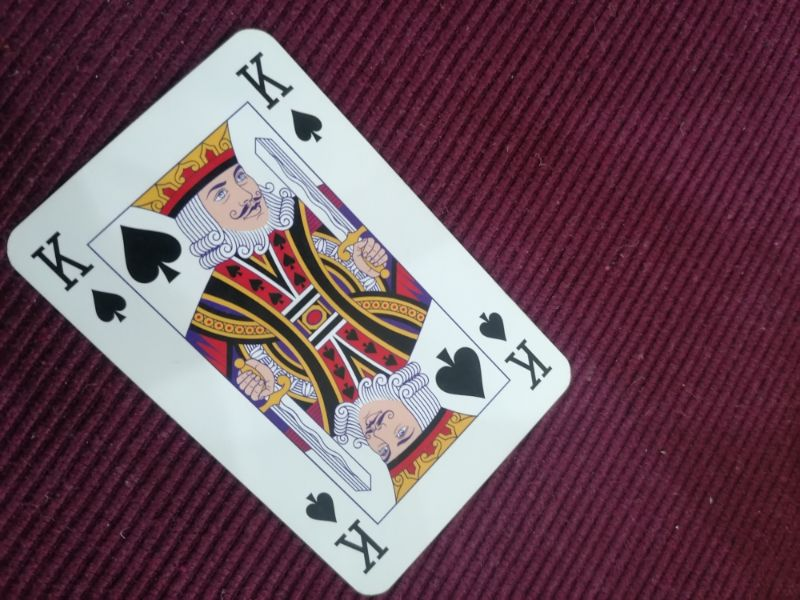Ks: (24, 229, 133, 326), (233, 51, 327, 145), (302, 485, 391, 577), (475, 306, 558, 394)
